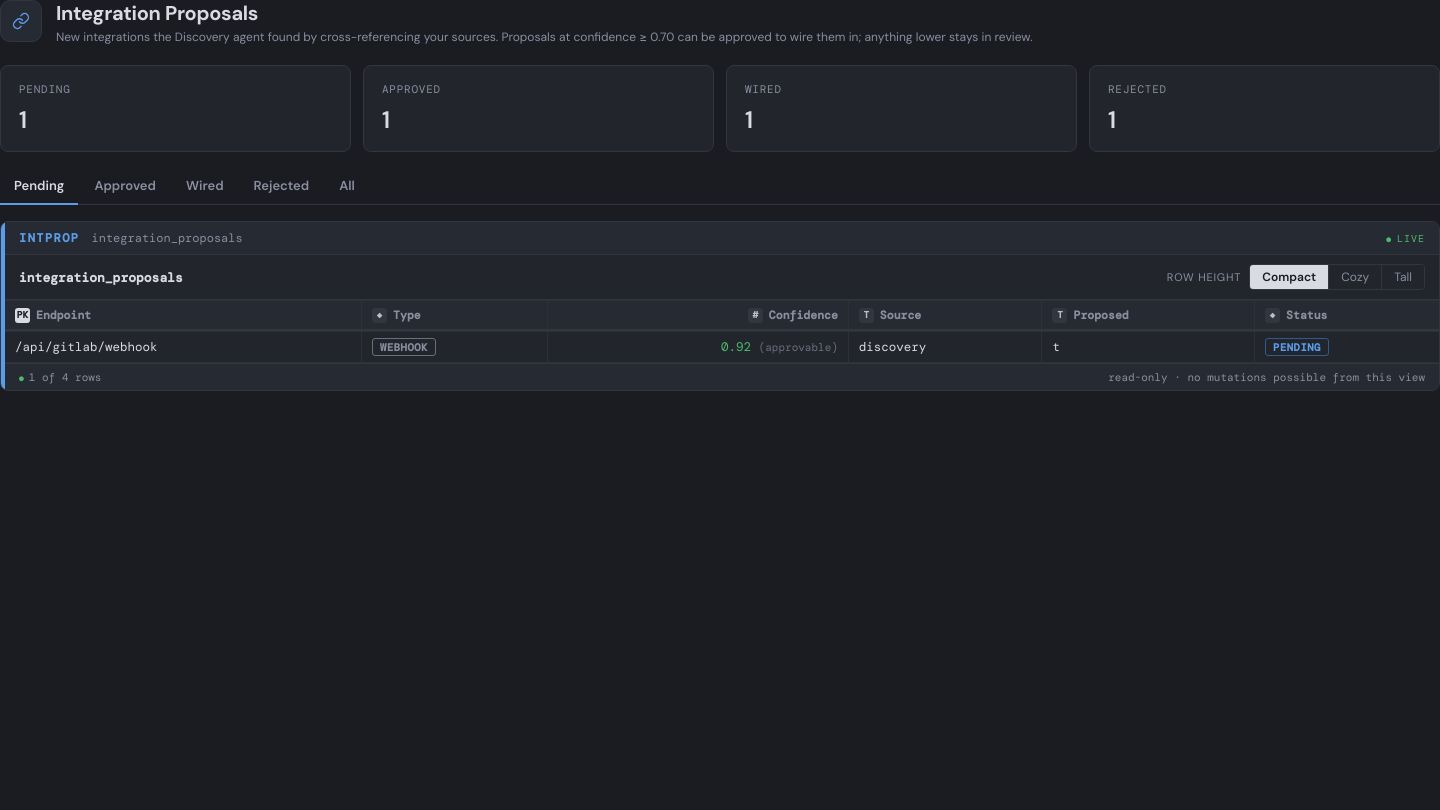
Test: Intprops page — Phase 3 design-system rebuild (TRK-198/TRK-215 lineage) › rejects a pending proposal after a confirm click, and POSTs the reject endpoint
expect the text "/api/gitlab/webhook" is shown: met, box 5,332 -> 362,362
Click the text "/api/gitlab/webhook" at (722, 347), box 5,332 -> 1439,362
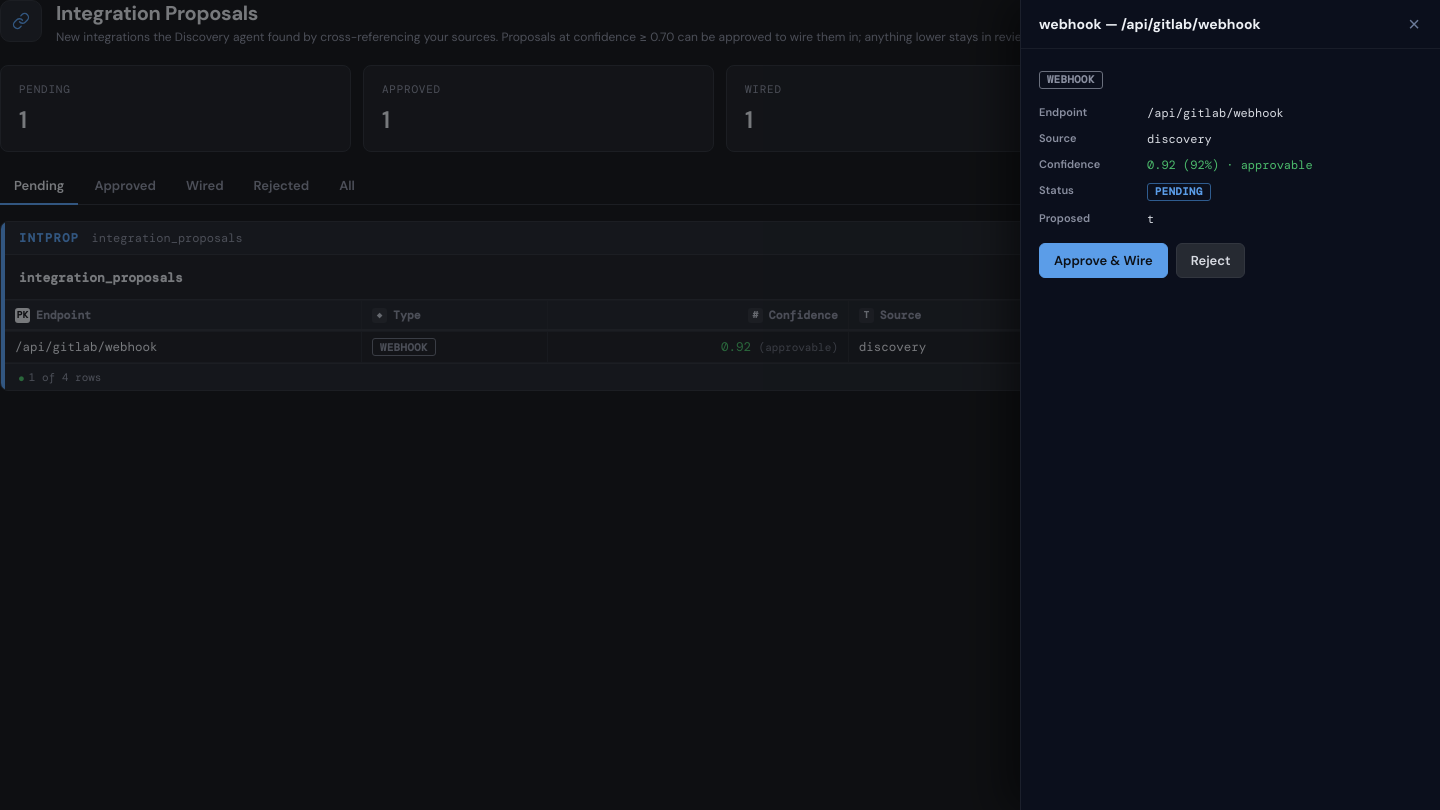
Click the button "Reject" at (1211, 260), box 1176,242 -> 1246,278
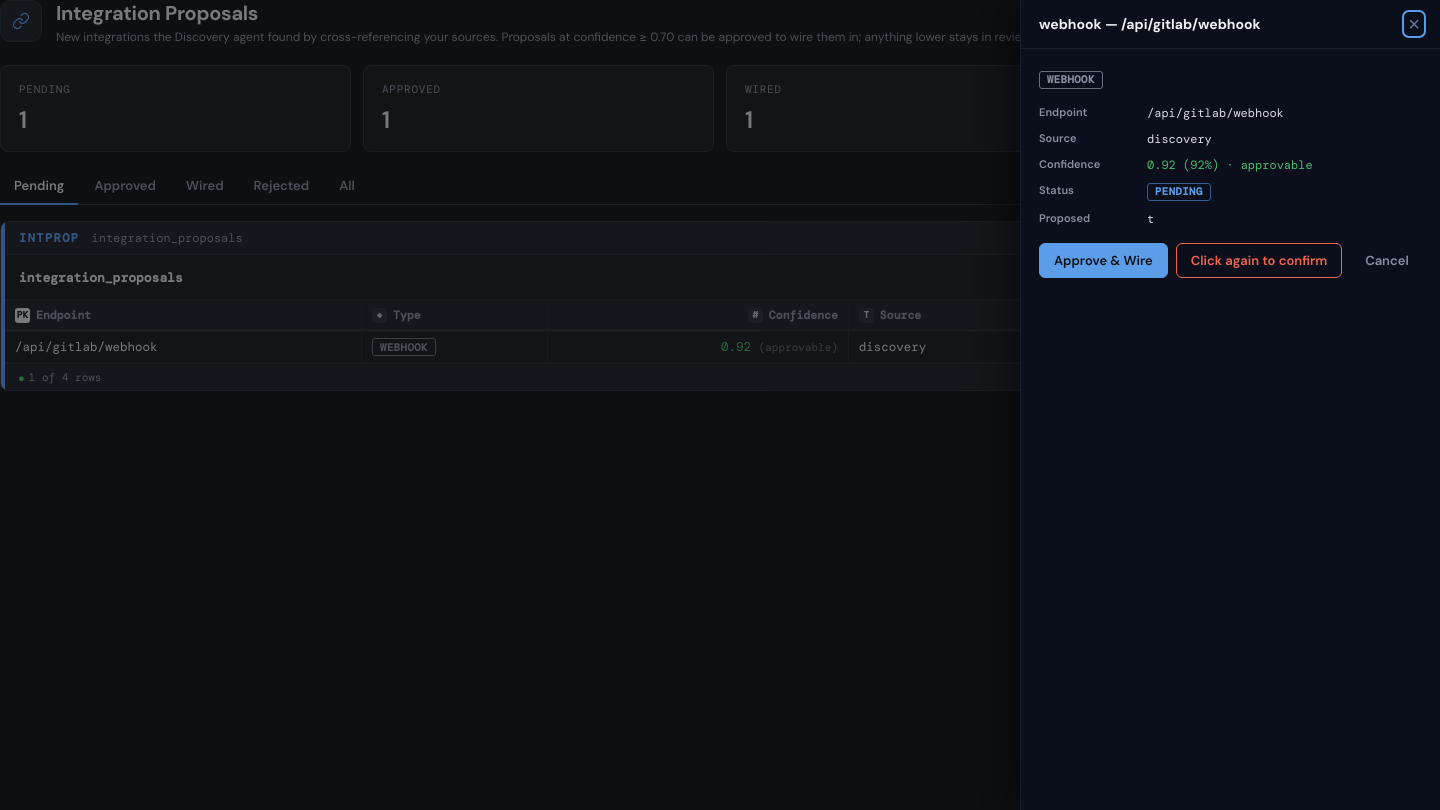
Click the button "Click again to confirm" at (1259, 260), box 1176,242 -> 1342,278
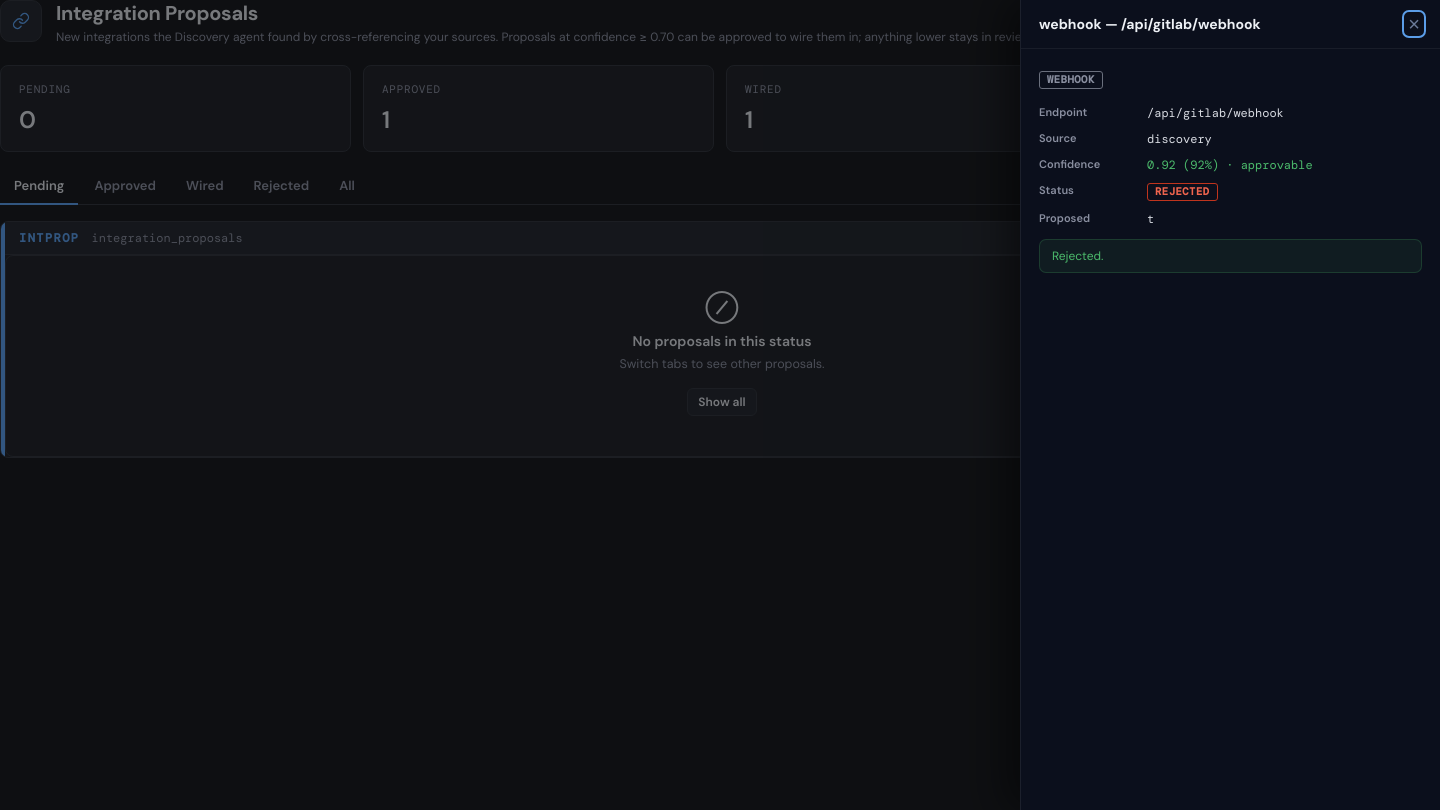
expect the text "Rejected." is shown: met, box 1039,238 -> 1422,272
